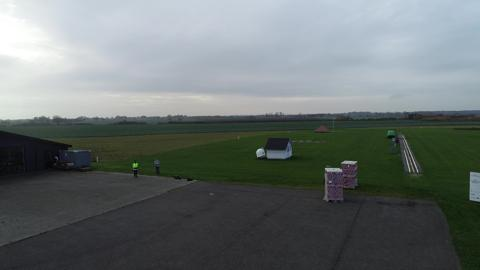RockwoolPallet: (341, 158, 360, 189)
